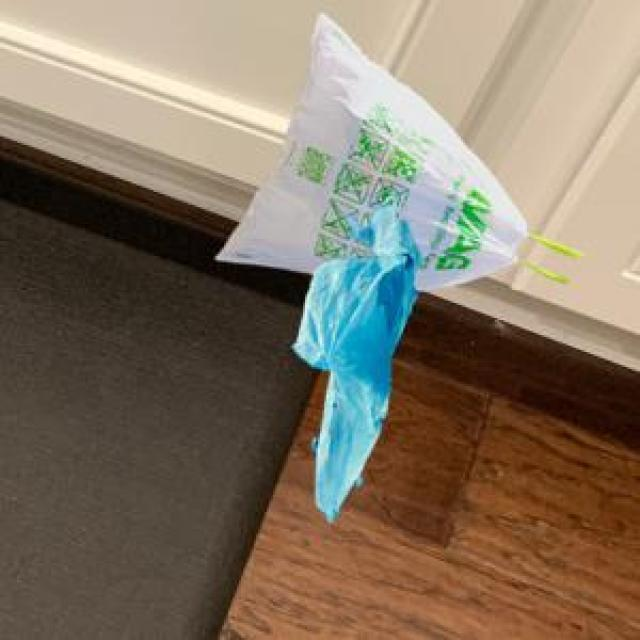waste: (218, 15, 526, 522)
